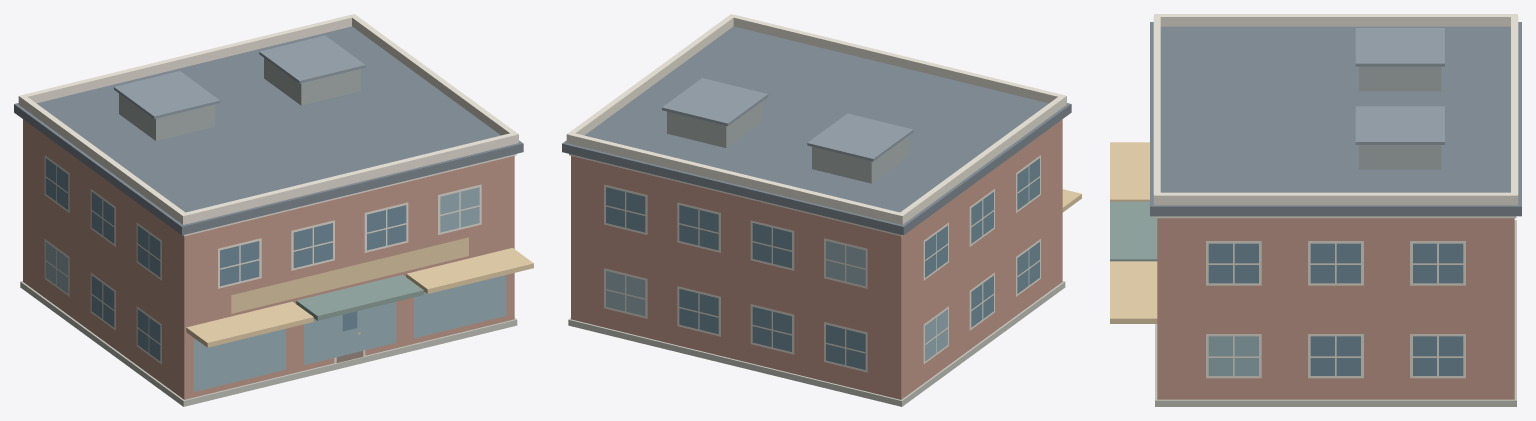
Rendered from shop-corner.glb.
3 views of the same model, side by side, from view 1: azimuth 30°, elevation 25°; view 2: azimuth 150°, elevation 25°; view 3: azimuth 270°, elevation 25° (orthographic). The views are drawn at different scales.
Visible parts, largest first — view 1: shop-corner; view 2: shop-corner; view 3: shop-corner.
Part boxes in pixels (x1,y1,x2,y2): shop-corner: (14, 14, 533, 406); shop-corner: (562, 14, 1081, 406); shop-corner: (1110, 14, 1521, 406).
Size of the model in its own units: 13.45 by 7.87 by 12.68.
